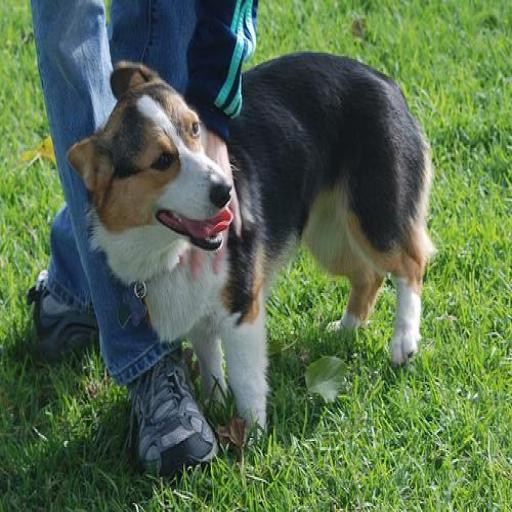dog_face: (70, 62, 240, 284)
